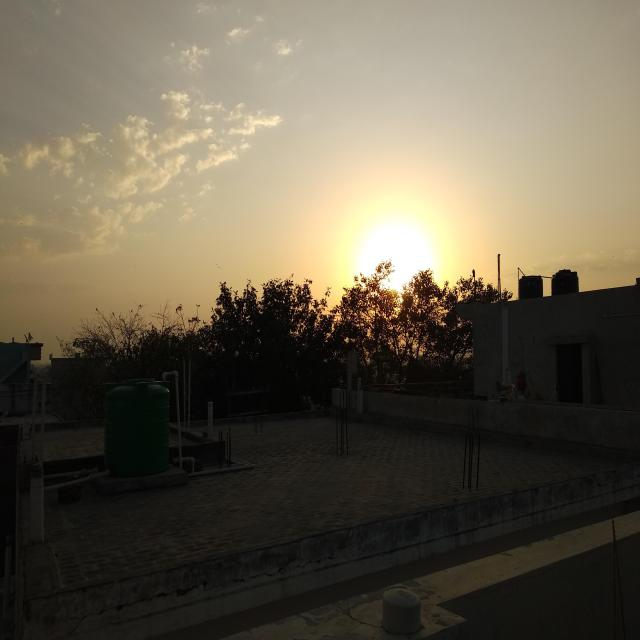other: (341, 194, 462, 314)
